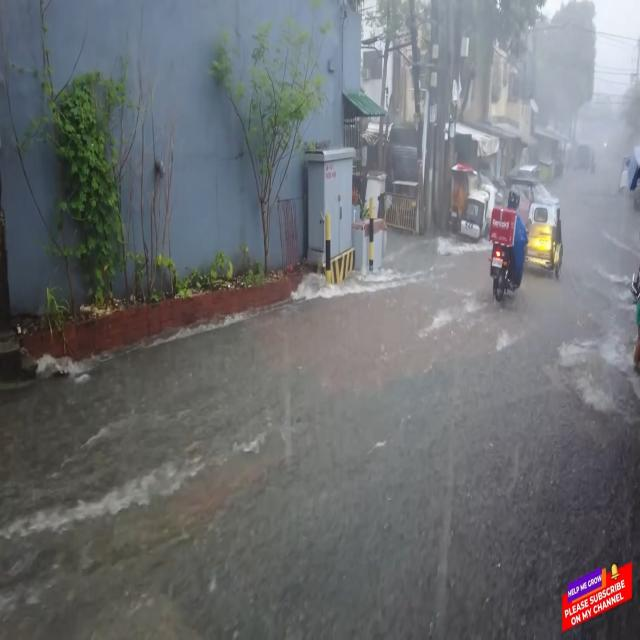full: (504, 186, 523, 216)
